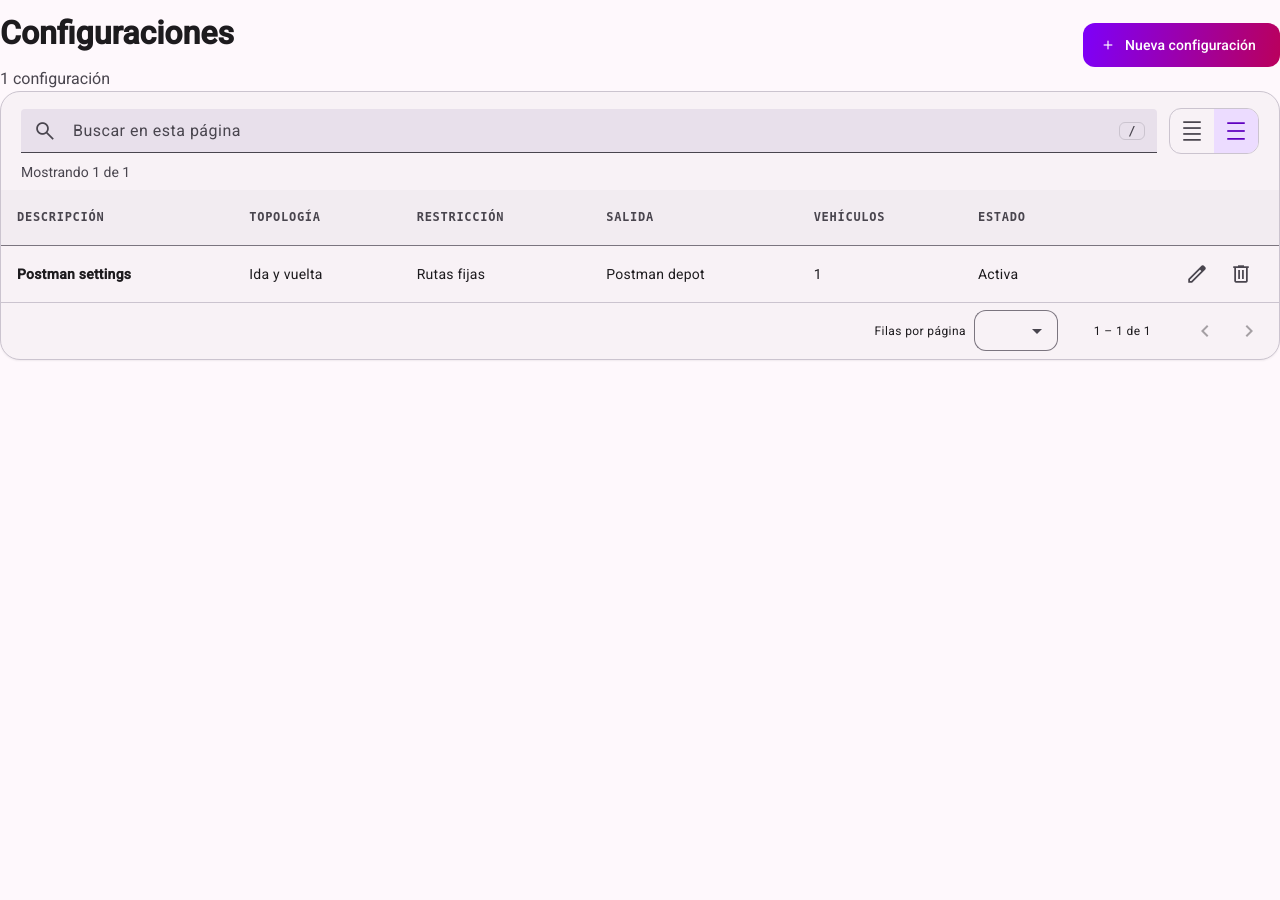
Test case: SettingsListComponent › borrado › borra tras confirmar y recarga
This screenshot has width=1280, height=900.
Click the button named "Eliminar configuración Postman settings" at {"x": 1241, "y": 274}, box [1219,252,1263,296]
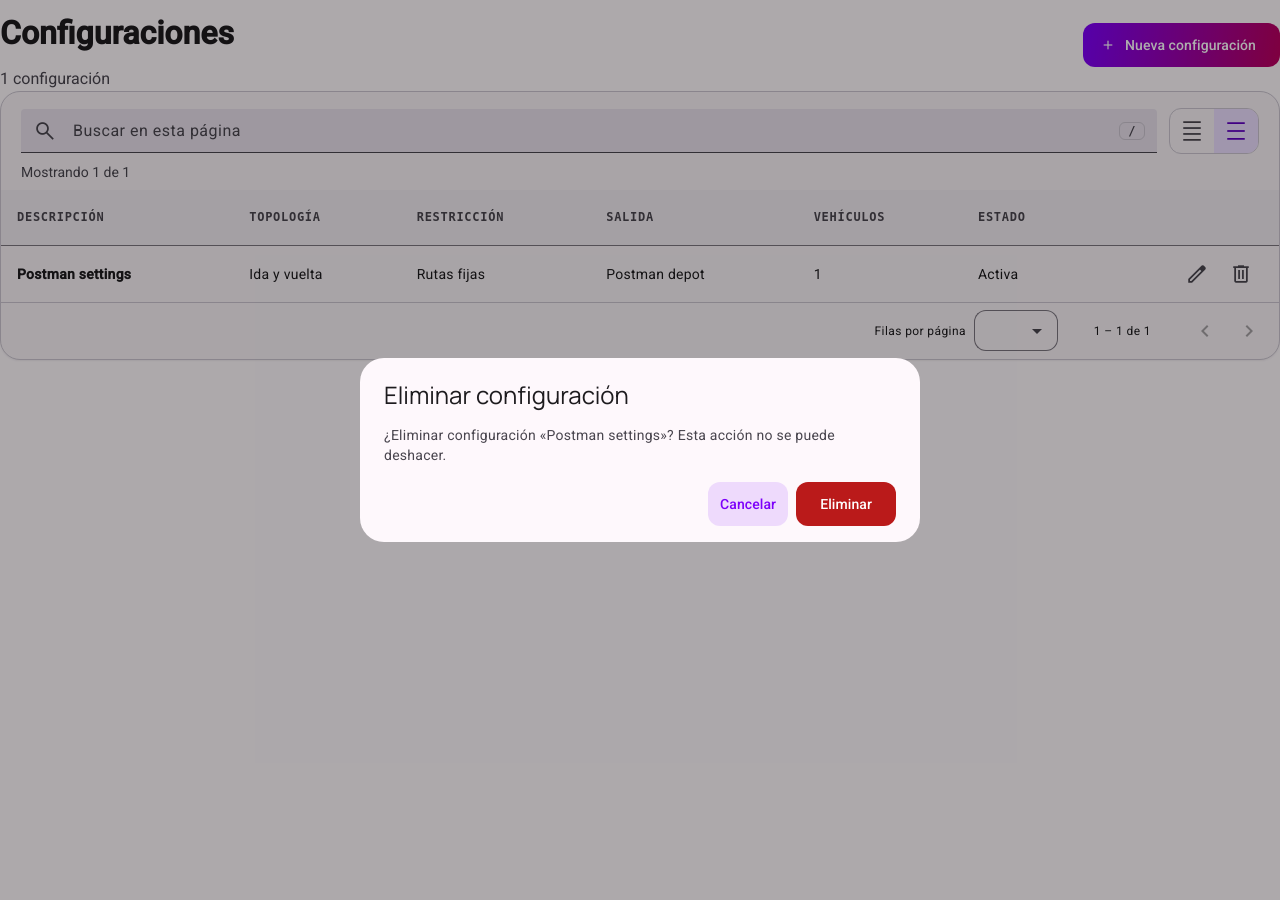
Click the button "Eliminar" at {"x": 846, "y": 504}, box [796,482,896,526]
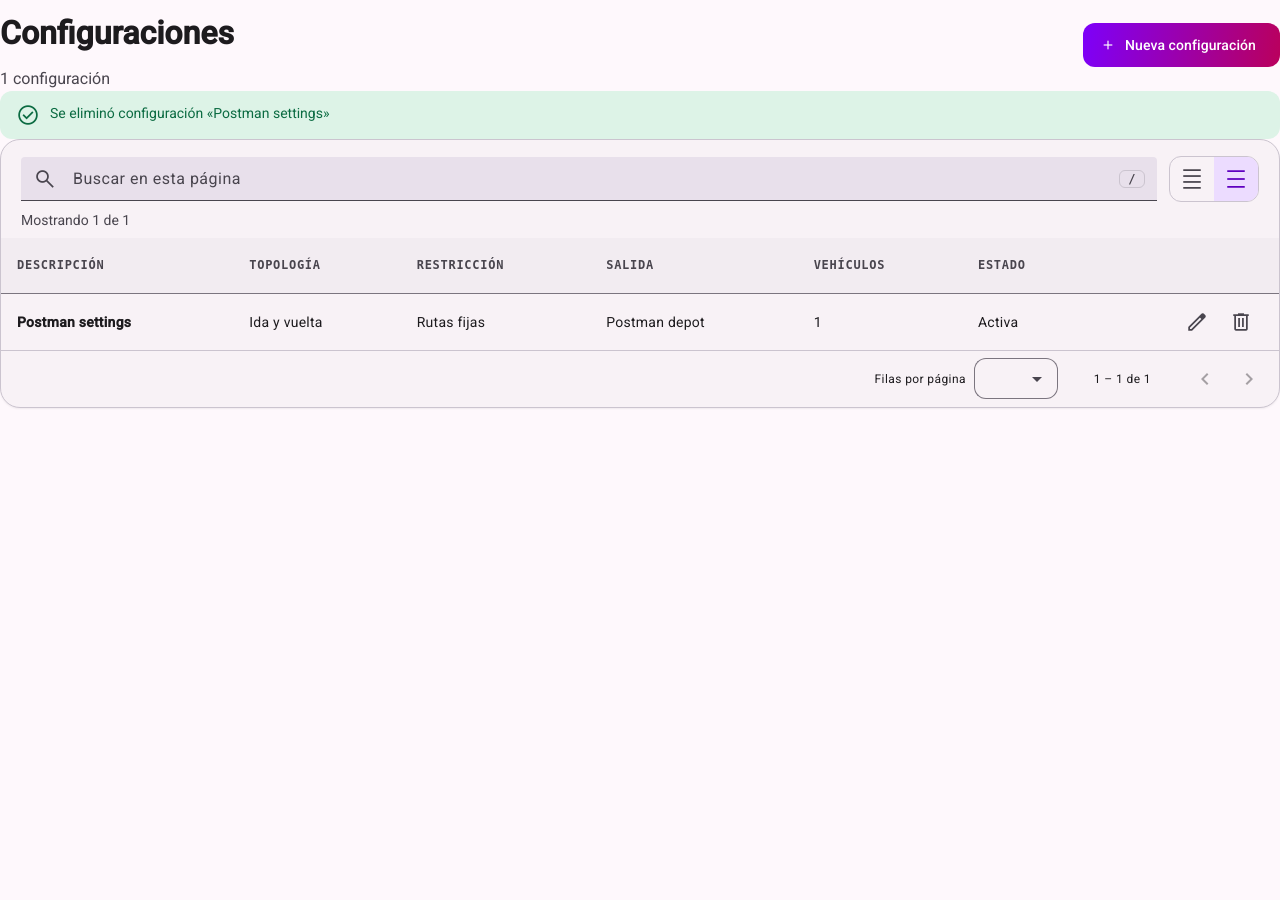
Expected: the text "Se eliminó configuración «Postman settings»" is shown, [50,103,330,123]
